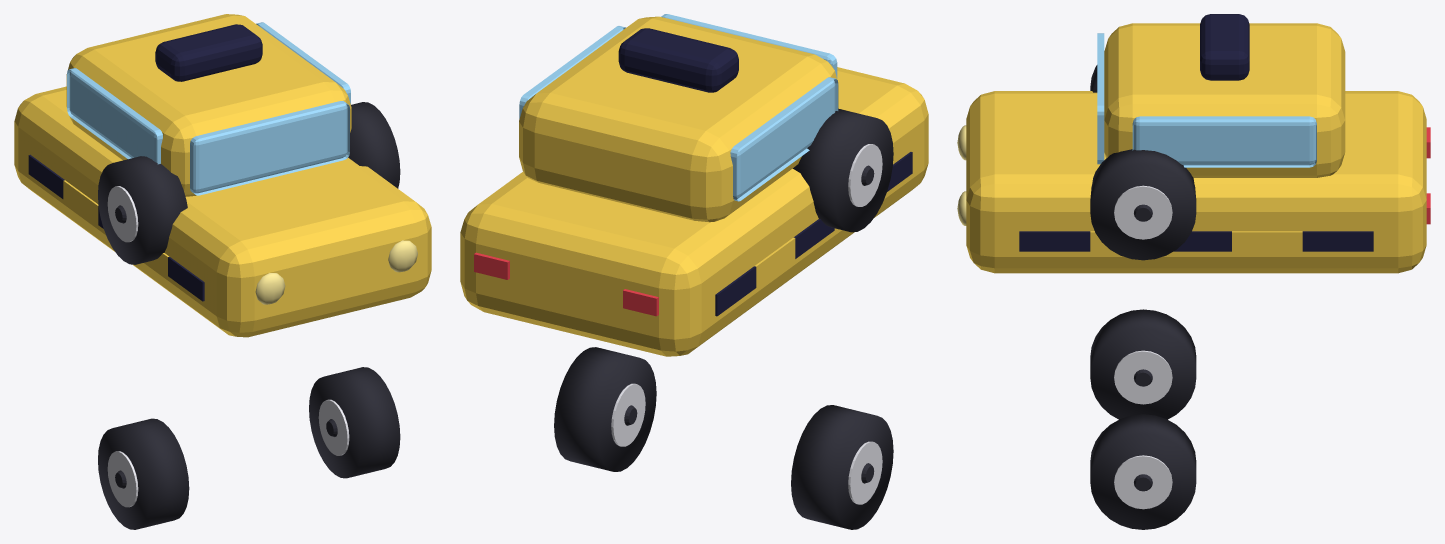
Rendered from Car_Taxi.fbx.
3 views of the same model, side by side, from view 1: azimuth 30°, elevation 25°; view 2: azimuth 150°, elevation 25°; view 3: azimuth 270°, elevation 25° (orthographic). The views are drawn at different scales.
Parts seen in each view (by area): view 1: Car_Taxi, Wheel_FR, Wheel_FL, Wheel_RL, Wheel_RR; view 2: Car_Taxi, Wheel_FR, Wheel_FL, Wheel_RL; view 3: Car_Taxi, Wheel_FR, Wheel_FL, Wheel_RR.
Boxes of the visible parts, x1,y1,x2,y2 form: Car_Taxi: (14, 14, 431, 337); Wheel_FR: (309, 367, 400, 478); Wheel_FL: (98, 418, 189, 529); Wheel_RL: (98, 156, 187, 264); Wheel_RR: (348, 102, 400, 188); Car_Taxi: (460, 14, 928, 356); Wheel_FR: (554, 347, 656, 471); Wheel_FL: (791, 405, 893, 529); Wheel_RL: (793, 108, 893, 232); Car_Taxi: (957, 14, 1430, 273); Wheel_FR: (1090, 414, 1196, 529); Wheel_FL: (1090, 309, 1196, 419); Wheel_RR: (1090, 149, 1196, 260).
Size of the model in its own units: 0.8638 by 1.36 by 1.34.
